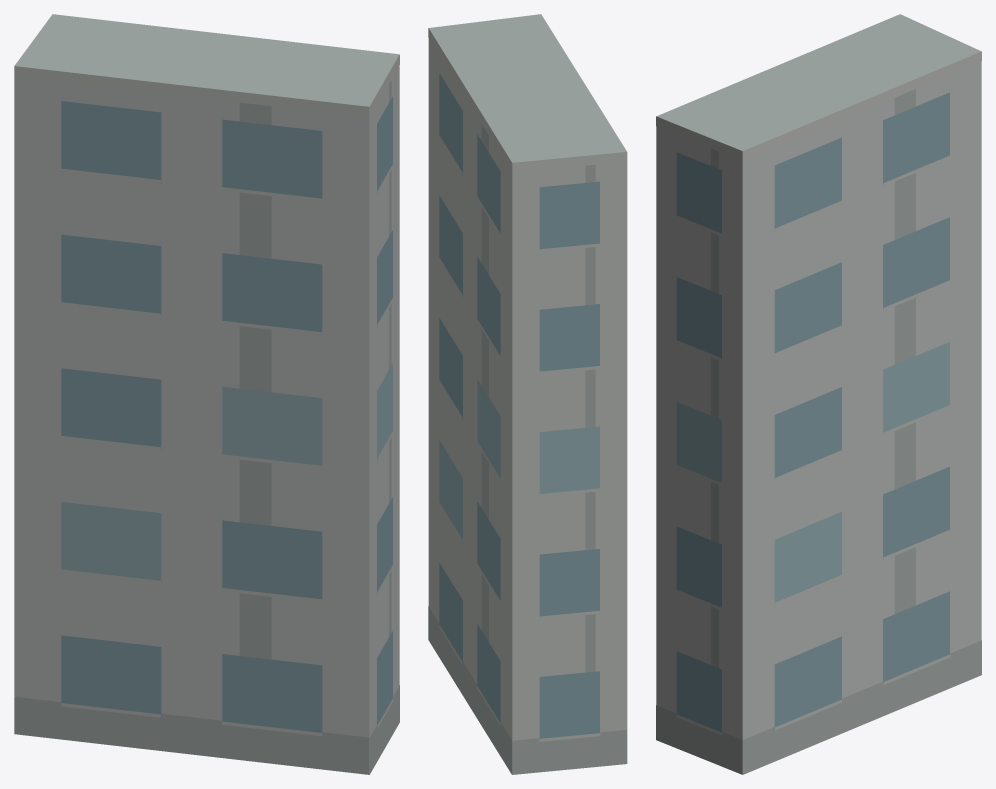
Rendered from survey-upis-32782699.glb.
3 renders of one model, left to right at view 1: azimuth 30°, elevation 25°; view 2: azimuth 150°, elevation 25°; view 3: azimuth 270°, elevation 25°, orthographic. The views are drawn at different scales.
Visible parts, largest first — view 1: survey-upis-32782699.tmp; view 2: survey-upis-32782699.tmp; view 3: survey-upis-32782699.tmp.
Boxes of the visible parts, <box> form: survey-upis-32782699.tmp: <box>14,14,399,774</box>; survey-upis-32782699.tmp: <box>428,14,627,774</box>; survey-upis-32782699.tmp: <box>656,14,981,774</box>.
Bounding box in the file's own units: 7.2 × 15.25 × 7.22.
